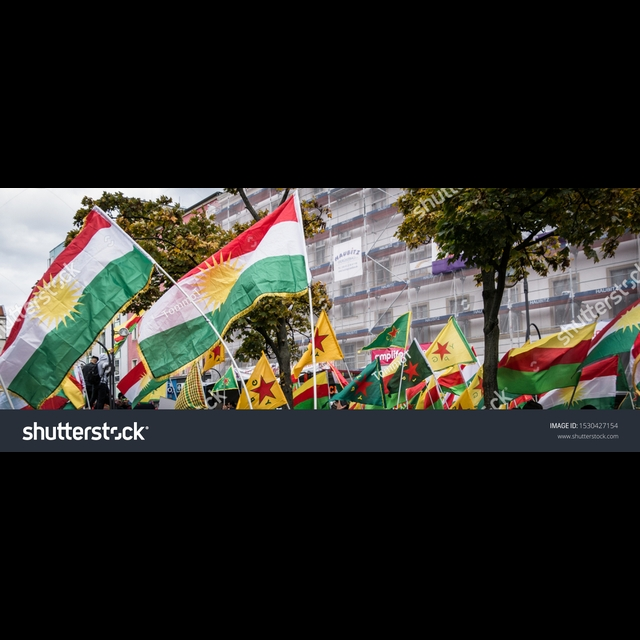IBKY: (28, 277, 91, 329), (191, 259, 251, 303)
YPG: (244, 372, 275, 410), (427, 335, 459, 365)
YPJ: (347, 369, 371, 401)
